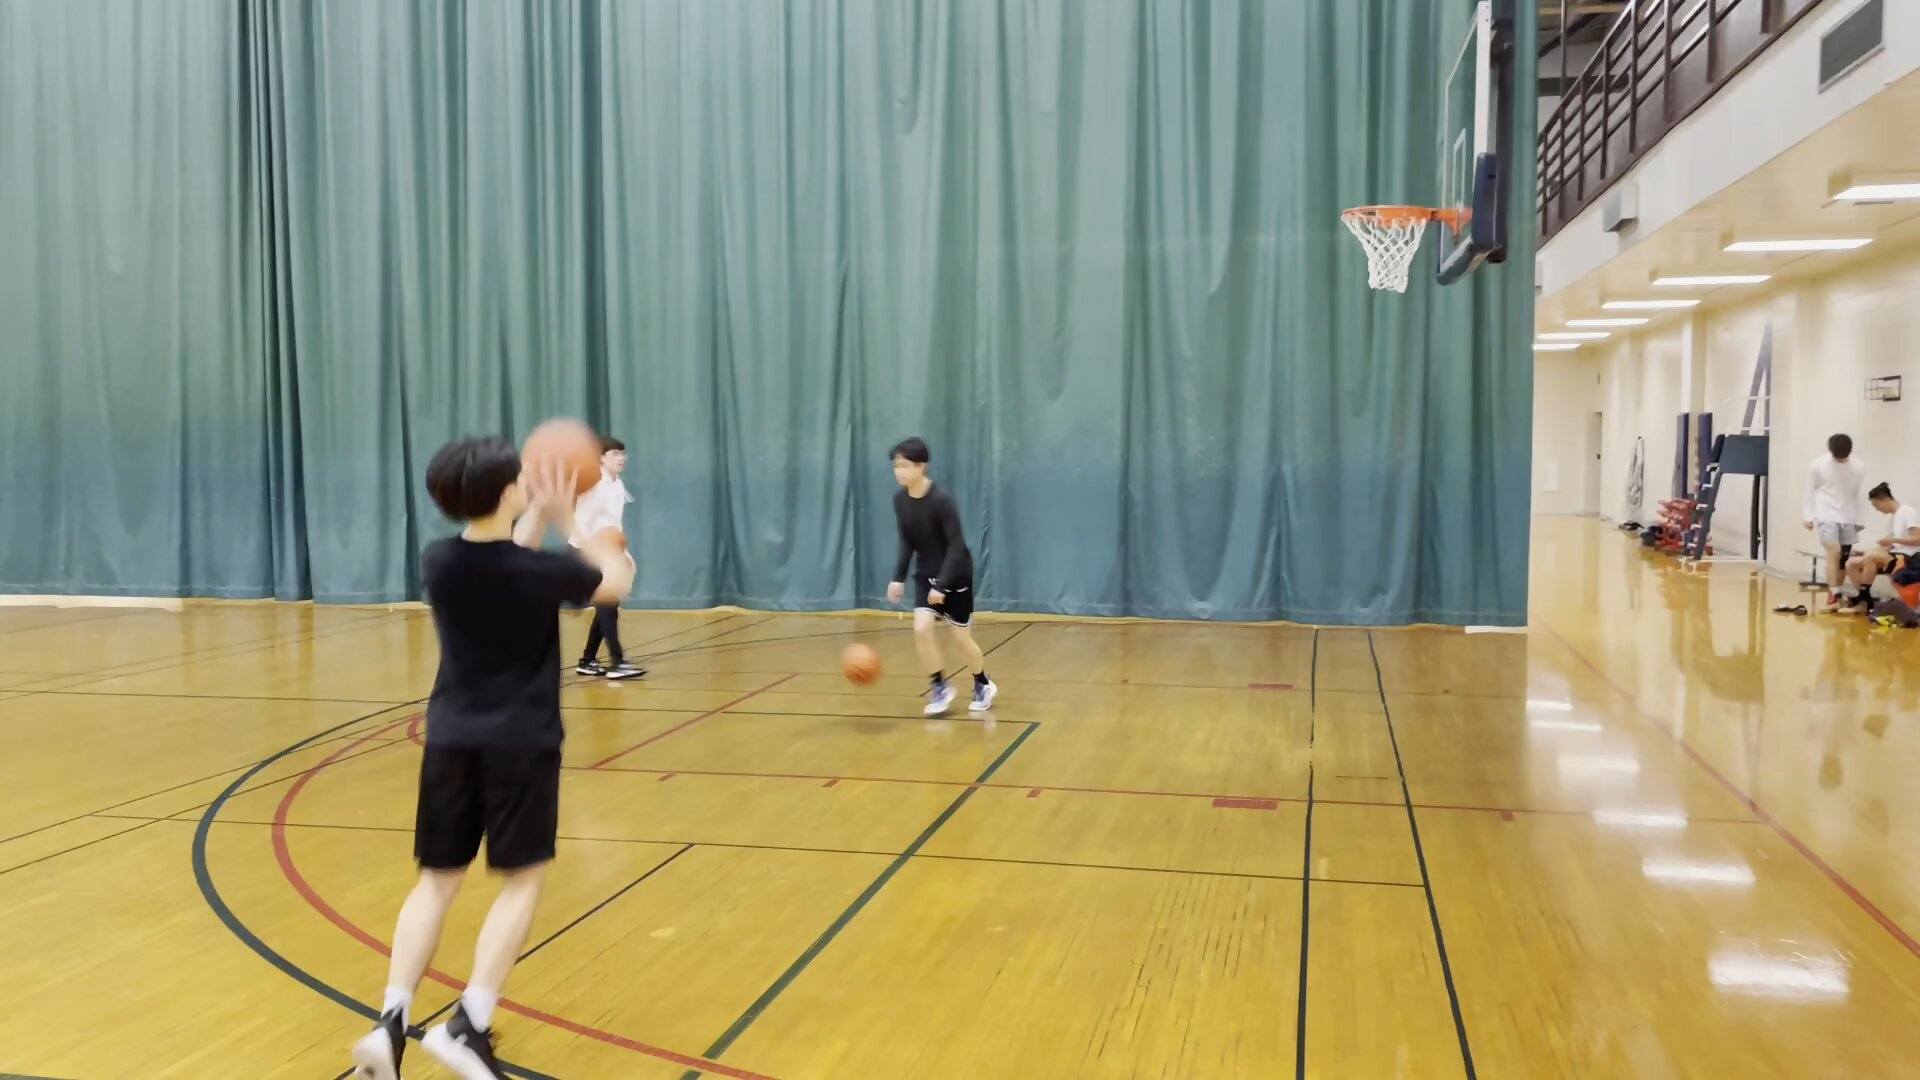ball: (517, 412, 608, 502), (835, 641, 886, 691)
net: (1362, 260, 1416, 298)
player: (358, 436, 630, 1080), (882, 432, 1001, 715), (565, 432, 649, 689), (1803, 431, 1863, 615), (1858, 483, 1920, 612)
rim: (1335, 201, 1440, 229)
